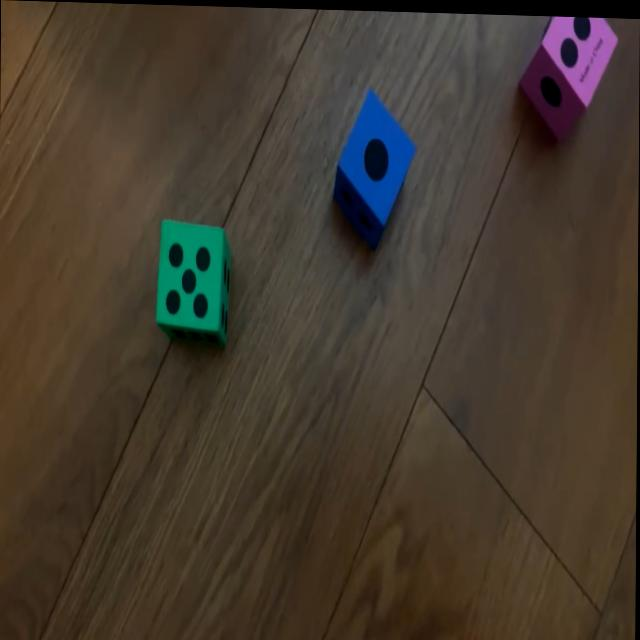cube: (334, 87, 415, 248), (157, 218, 232, 345)
